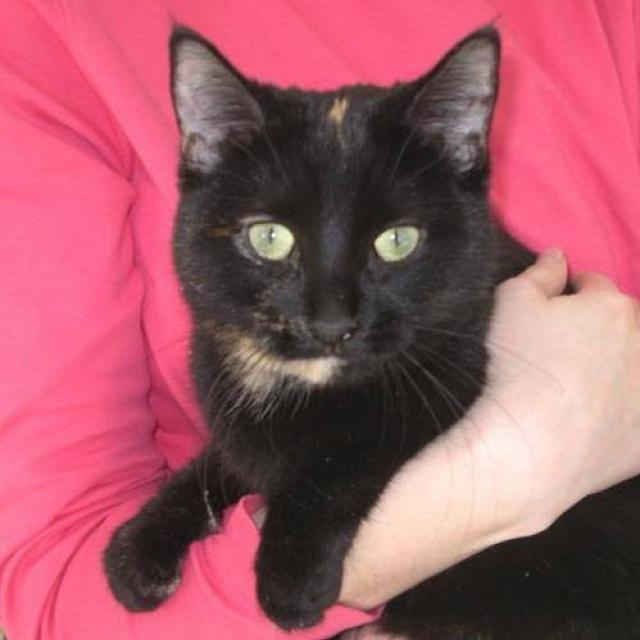cat: (100, 19, 639, 639)
